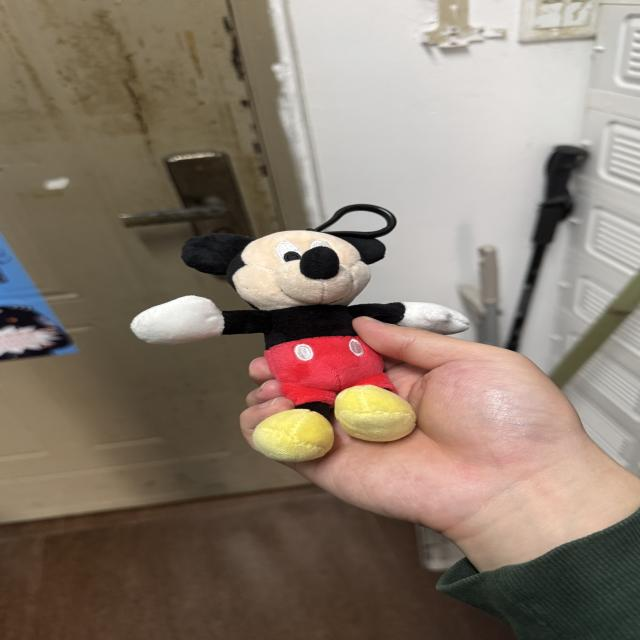mickey: (132, 205, 468, 461)
